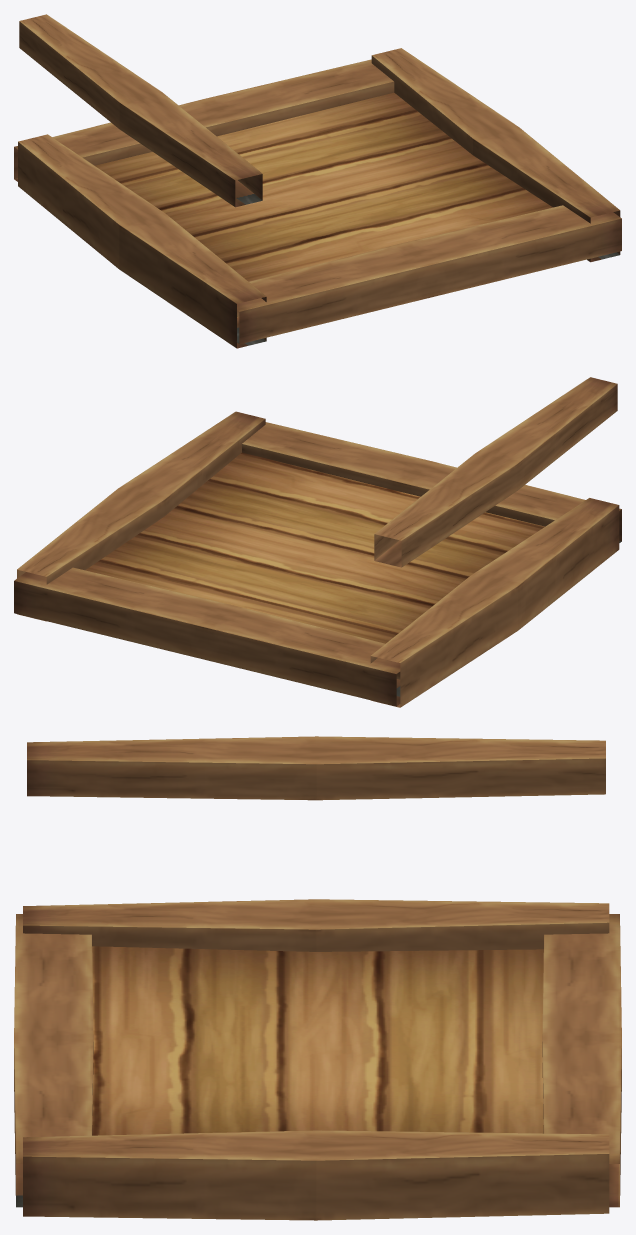
Rendered from bridge_02_tile_07.fbx.
3 views of the same model, one above another, from view 1: azimuth 30°, elevation 25°; view 2: azimuth 150°, elevation 25°; view 3: azimuth 270°, elevation 25° (orthographic). The views are drawn at different scales.
Parts seen in each view (by area): view 1: bridge_02_tile_07Mesh; view 2: bridge_02_tile_07Mesh; view 3: bridge_02_tile_07Mesh.
Boxes of the visible parts, left/top/right/bottom form: bridge_02_tile_07Mesh: left=14, top=14, right=621, bottom=348; bridge_02_tile_07Mesh: left=14, top=377, right=621, bottom=707; bridge_02_tile_07Mesh: left=14, top=736, right=621, bottom=1220.
Bounding box in the file's own units: 2.01 × 0.8095 × 1.98.
